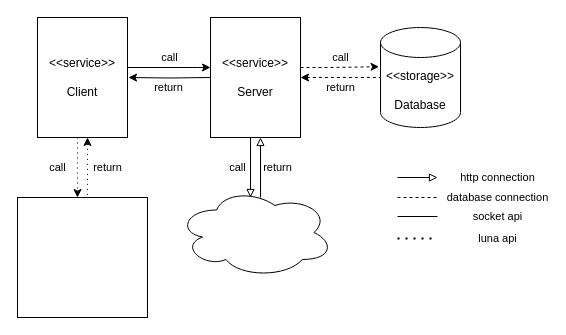
The diagram is 566 pixels wide and 335 high, and some of its shapes have lost their labels. The centre of each missing label's shape, as x and y in pixels:
"<<embedded system>> webOS" goes at pixel 82 257.
"<<externel system>> 외부 데이터 소스" goes at pixel 255 232.
